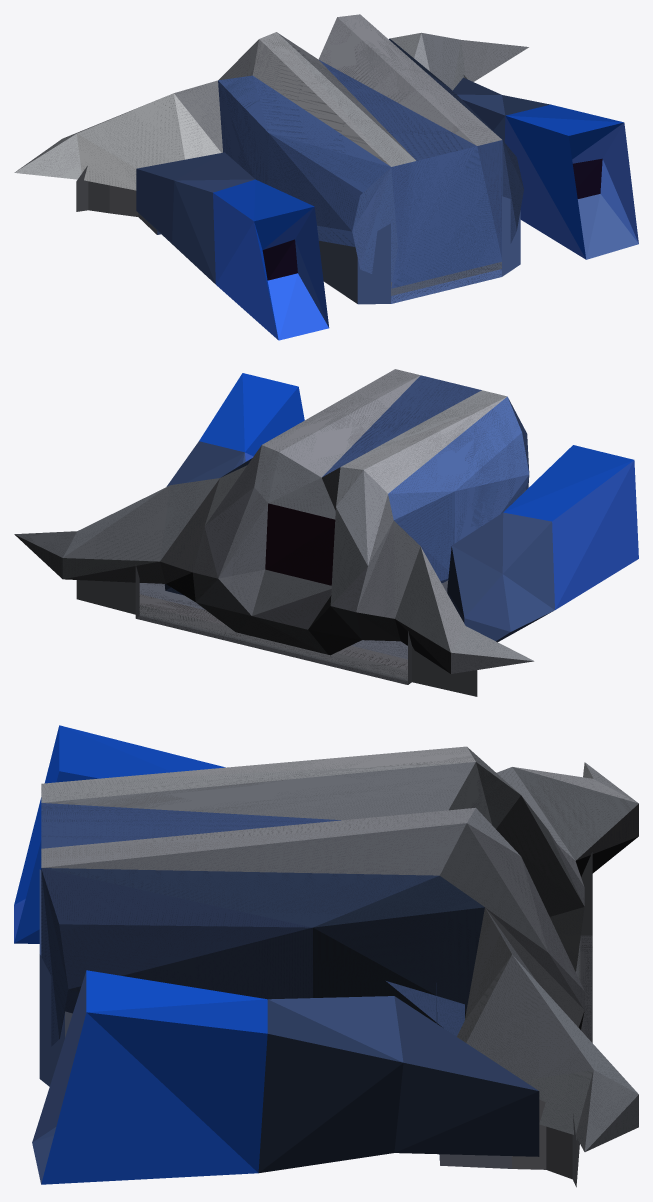
File: mystic-robe-top.obj
3 renders of one model, top to bottom at view 1: azimuth 30°, elevation 25°; view 2: azimuth 150°, elevation 25°; view 3: azimuth 270°, elevation 25°, orthographic. The views are drawn at different scales.
Visible parts, largest first — view 1: Item Mystic robe top 2026-09-24_18-00-26; view 2: Item Mystic robe top 2026-09-24_18-00-26; view 3: Item Mystic robe top 2026-09-24_18-00-26.
Part boxes in pixels (bbox=[...]): Item Mystic robe top 2026-09-24_18-00-26: bbox=[14, 14, 638, 340]; Item Mystic robe top 2026-09-24_18-00-26: bbox=[14, 369, 638, 696]; Item Mystic robe top 2026-09-24_18-00-26: bbox=[14, 725, 638, 1187].
Bounding box in the file's own units: 102 × 31 × 69.
